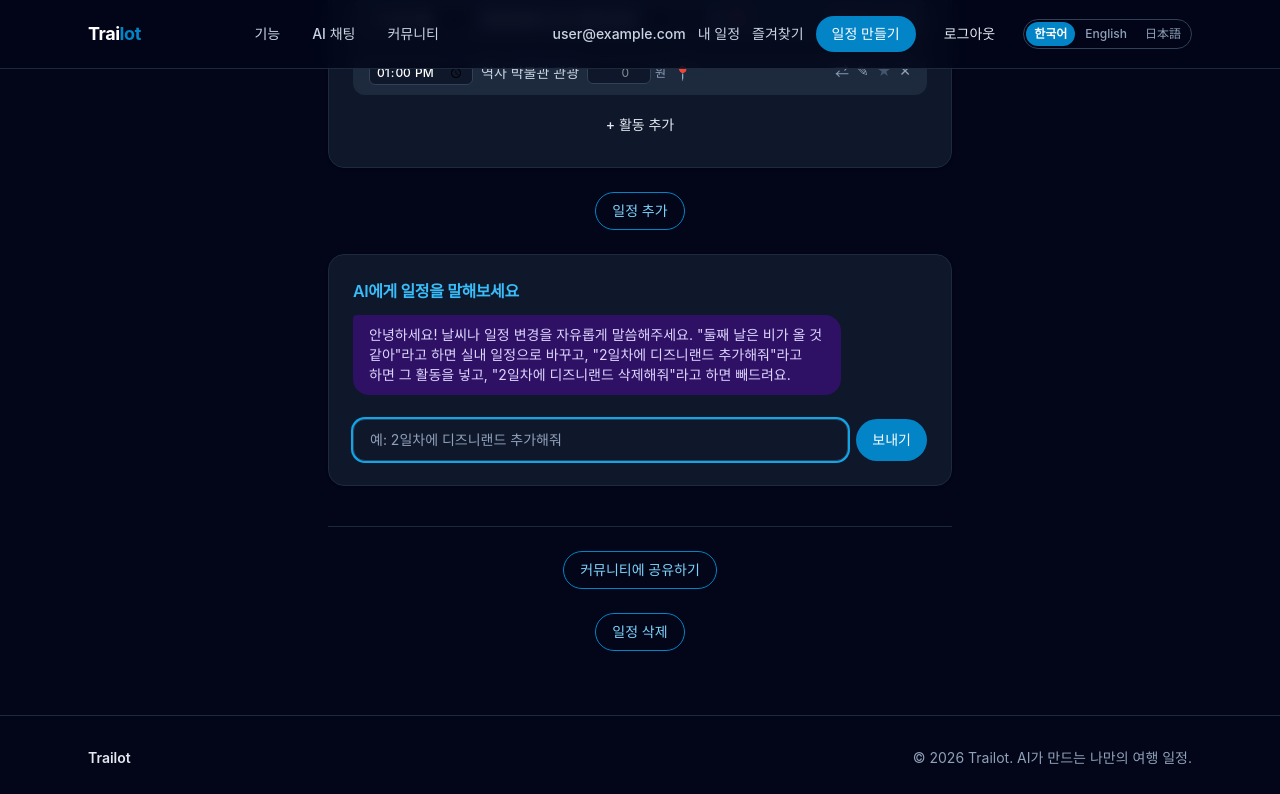
Test: TripDetailPage › replies to the weather chat in the currently selected language, even after switching away and back to it
(page scrolled)
Click the button "English".
click(1106, 34)  # box left=1077, top=22, right=1135, bottom=46
(page scrolled)
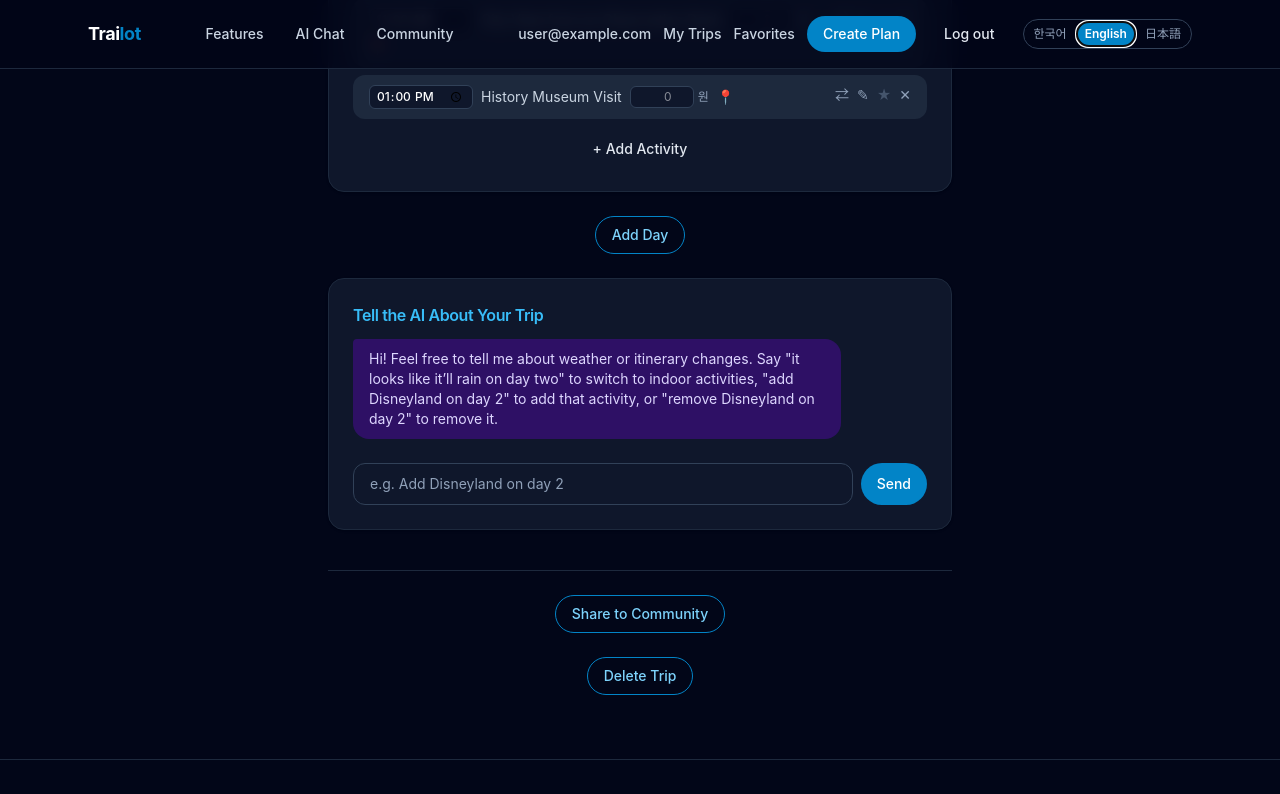
Type "first day is sunny" into the field named "Message input".
click(603, 484); type("first day is sunny")  # box left=353, top=463, right=853, bottom=505
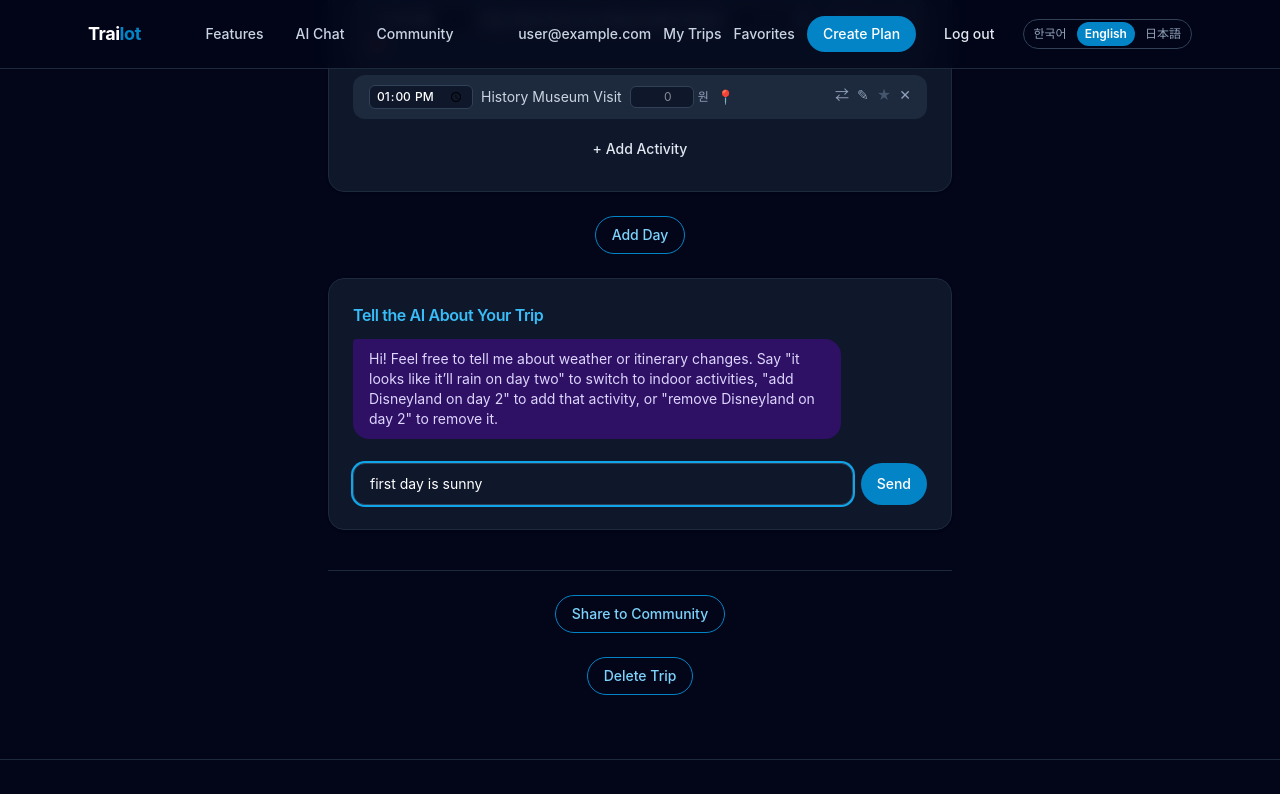
Click the button "Send".
click(894, 484)  # box left=861, top=463, right=927, bottom=505
(page scrolled)
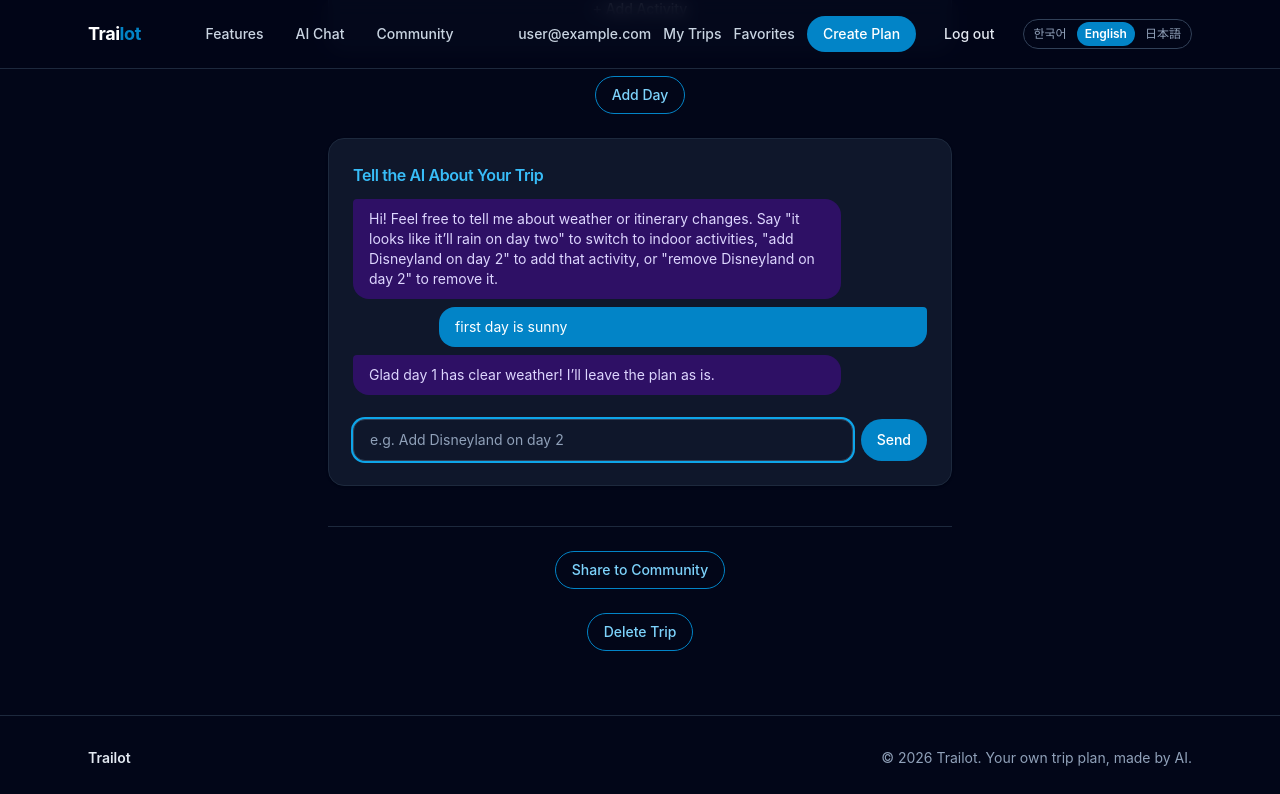
Expected: the text "Glad day 1 has clear weather! I’ll leave the plan as is." is shown, left=353, top=355, right=841, bottom=395
Click the button "한국어".
click(1050, 34)  # box left=1026, top=22, right=1075, bottom=46
(page scrolled)
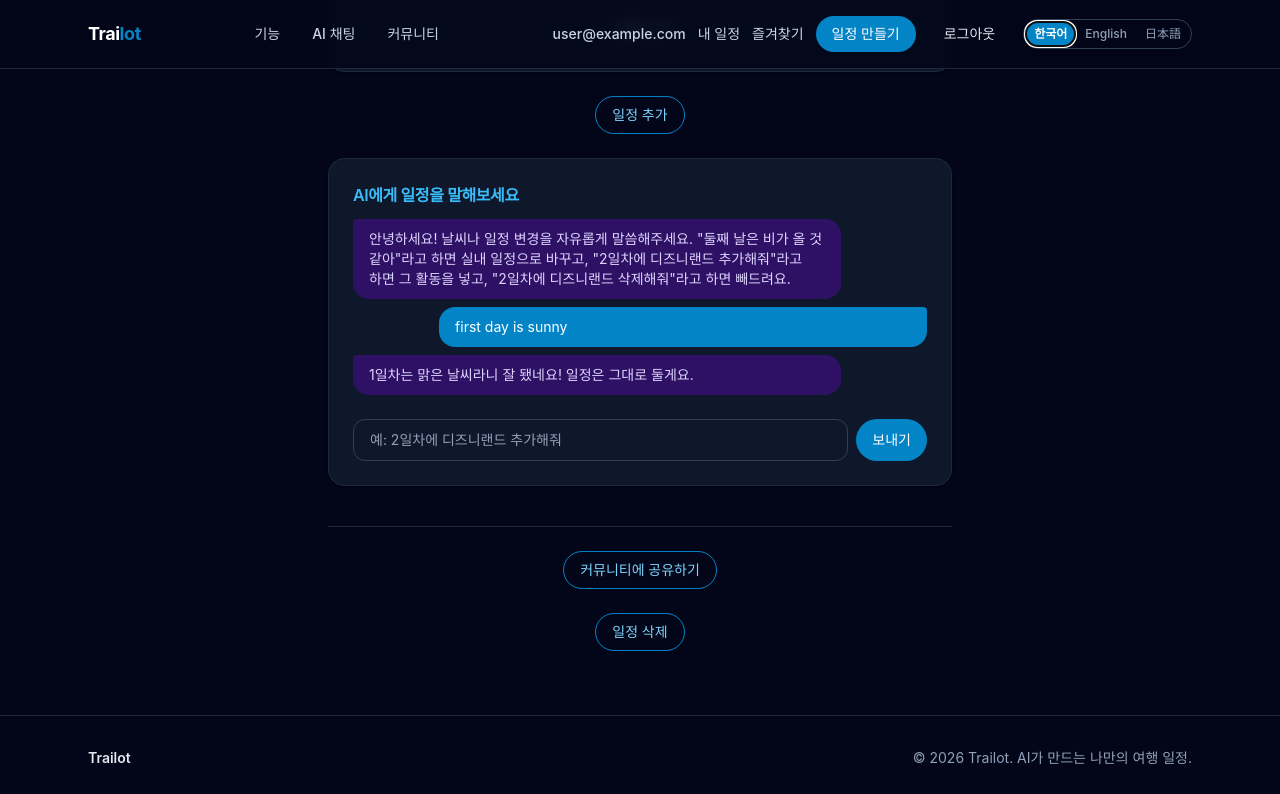
Type "둘째 날은 날씨가 맑대" into the field named "메시지 입력".
click(601, 440); type("둘째 날은 날씨가 맑대")  # box left=353, top=419, right=848, bottom=461
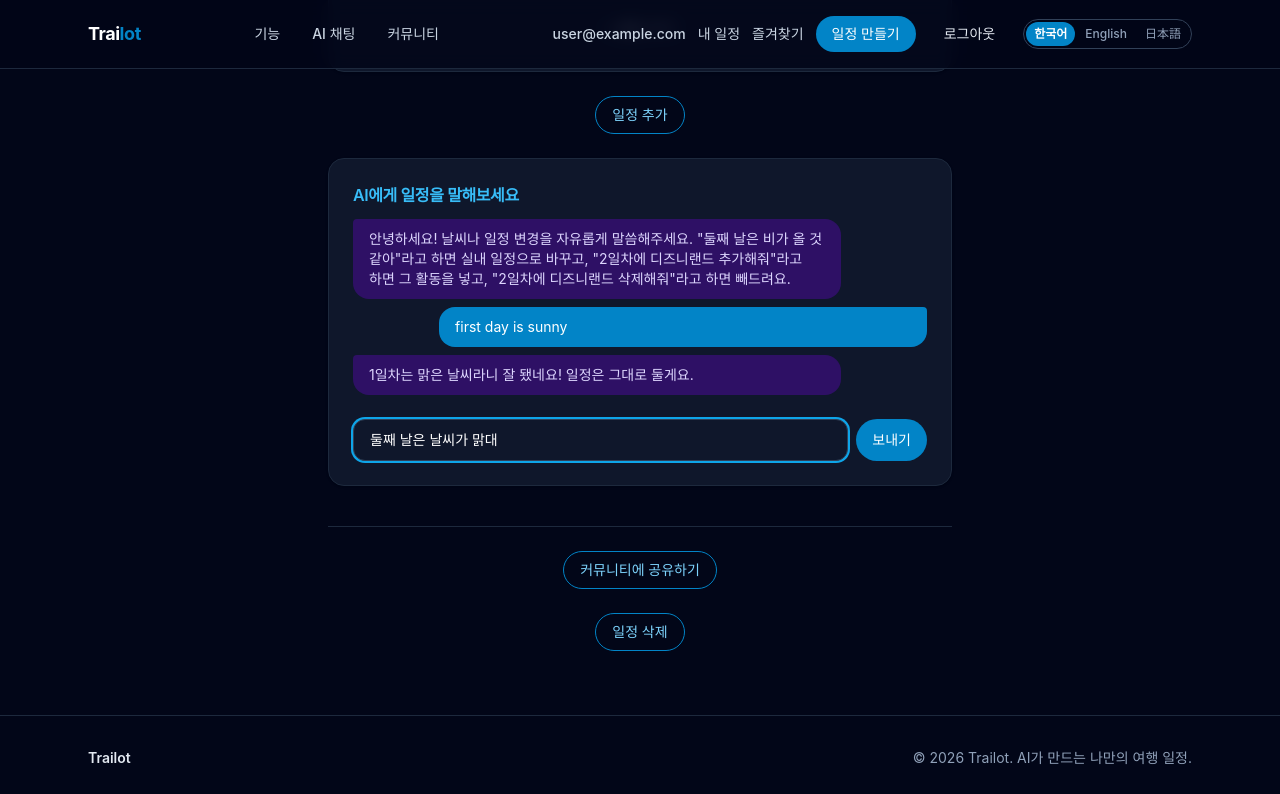
Click the button "보내기".
click(892, 440)  # box left=856, top=419, right=927, bottom=461
(page scrolled)
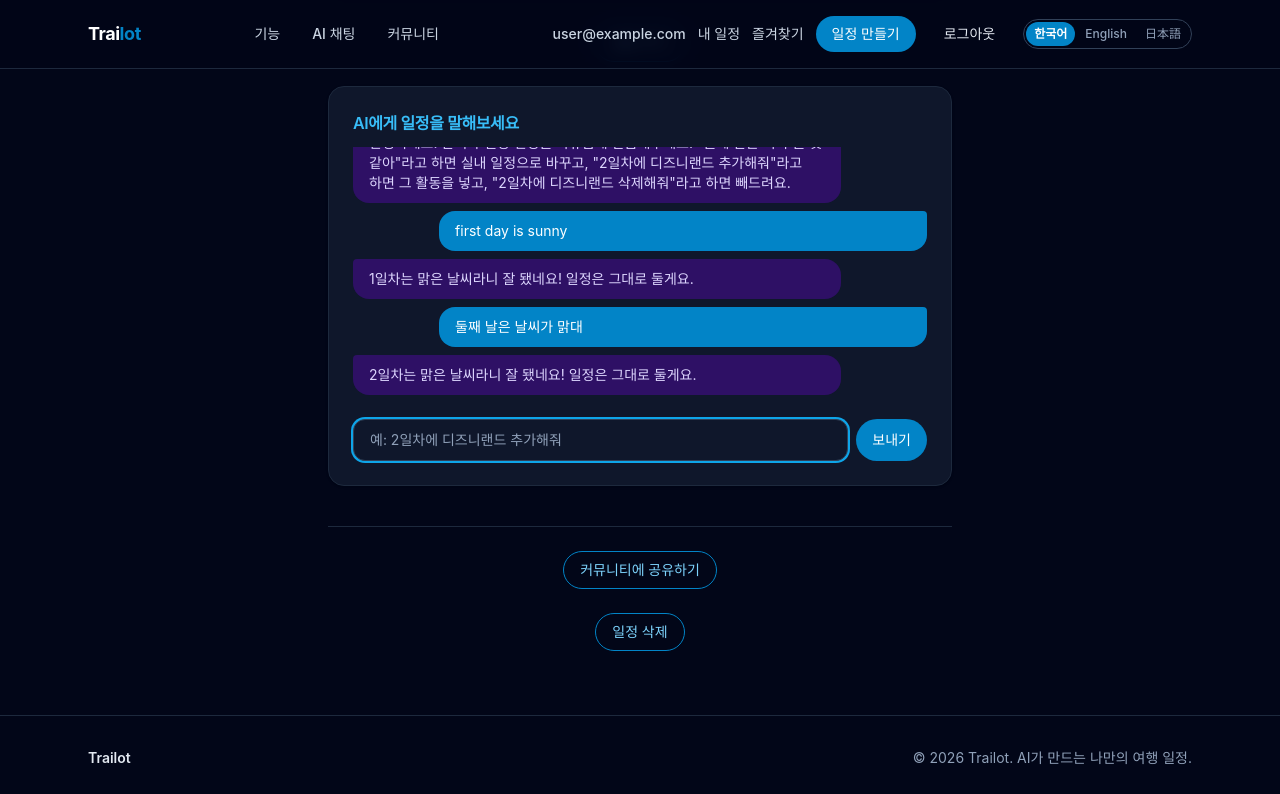
Expected: the text "I’ll leave the plan as is" is not shown
Expected: the text "1일차는 맑은 날씨라니 잘 됐네요! 일정은 그대로 둘게요." is shown, left=353, top=259, right=841, bottom=299
Expected: the text "2일차는 맑은 날씨라니 잘 됐네요! 일정은 그대로 둘게요." is shown, left=353, top=355, right=841, bottom=395
